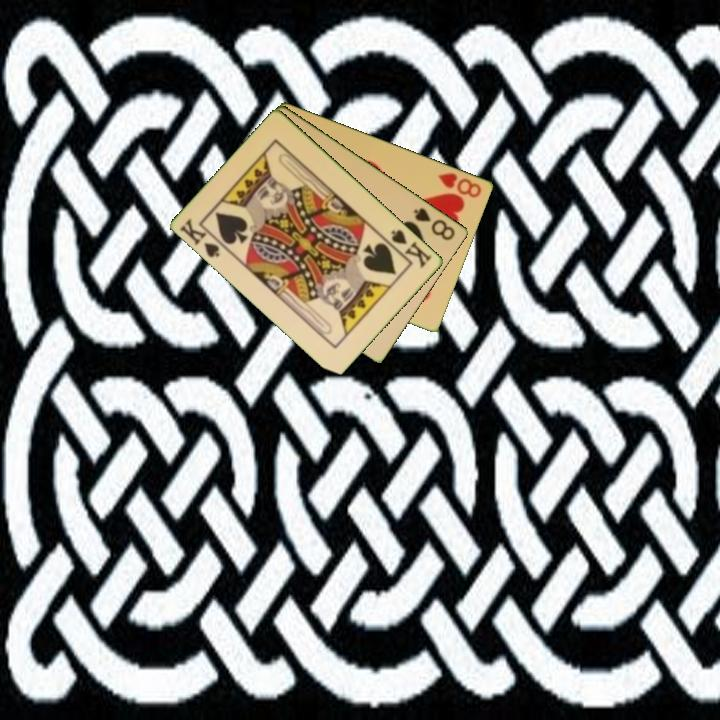8h: (435, 169, 485, 200)
8s: (410, 204, 458, 243)
Ks: (177, 215, 230, 261), (383, 226, 435, 271)
